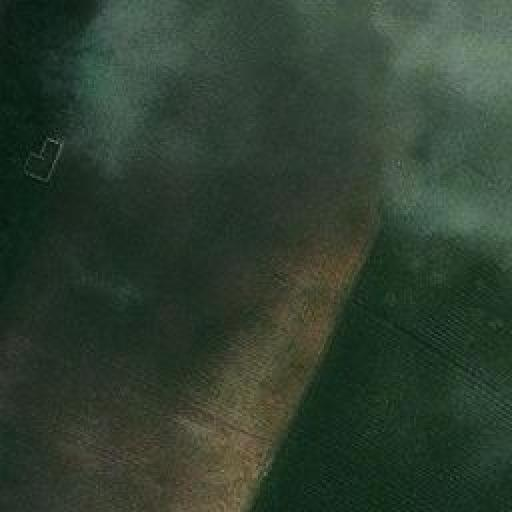manzanas: (21, 124, 67, 180)
